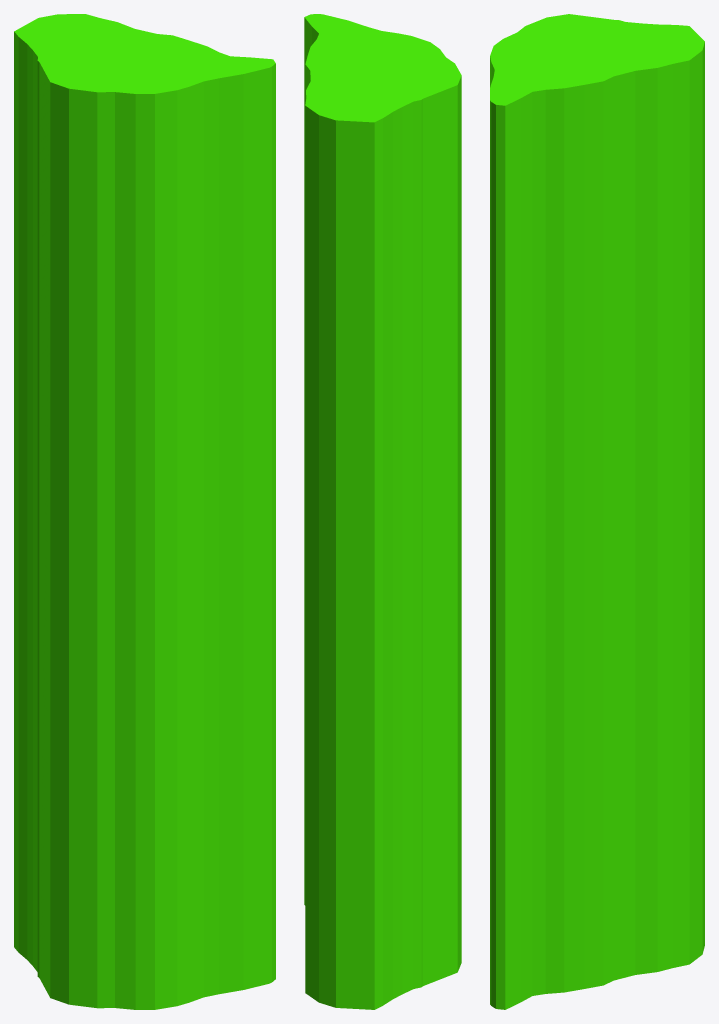
Rendered from wood_area0103.dae.
3 views of the same model, side by side, from view 1: azimuth 30°, elevation 25°; view 2: azimuth 150°, elevation 25°; view 3: azimuth 270°, elevation 25° (orthographic). The views are drawn at different scales.
Parts seen in each view (by area): view 1: Object_010; view 2: Object_010; view 3: Object_010.
Boxes of the visible parts, x1,y1,x2,y2 form: Object_010: [14, 14, 275, 1009]; Object_010: [304, 14, 461, 1009]; Object_010: [490, 14, 704, 1009].
Size of the model in its own units: 80.55 by 79.67 by 370.
